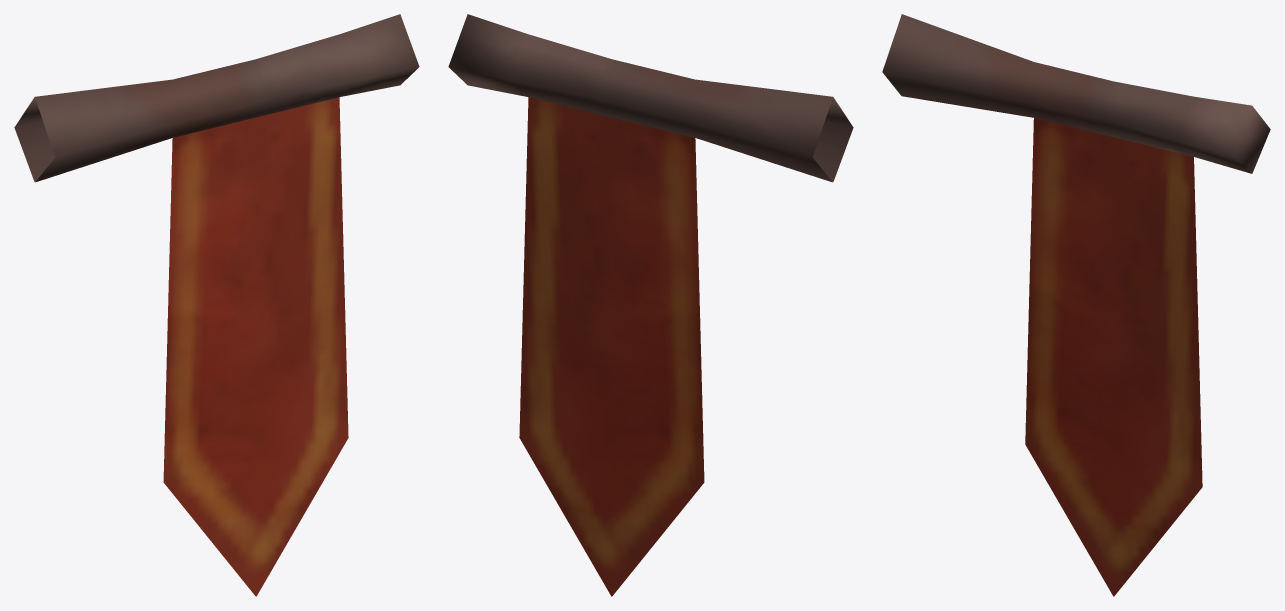
The model's file is castleWalls_flag_2.FBX.
3 views of the same model, side by side, from view 1: azimuth 30°, elevation 25°; view 2: azimuth 150°, elevation 25°; view 3: azimuth 330°, elevation 25° (orthographic). The views are drawn at different scales.
Parts seen in each view (by area): view 1: castleWalls_flag_2; view 2: castleWalls_flag_2; view 3: castleWalls_flag_2.
Boxes of the visible parts, <box> form: castleWalls_flag_2: <box>14,14,419,596</box>; castleWalls_flag_2: <box>448,14,853,596</box>; castleWalls_flag_2: <box>882,14,1270,596</box>.
Size of the model in its own units: 54.27 by 78.59 by 10.5.
1 material, 1 textured.
